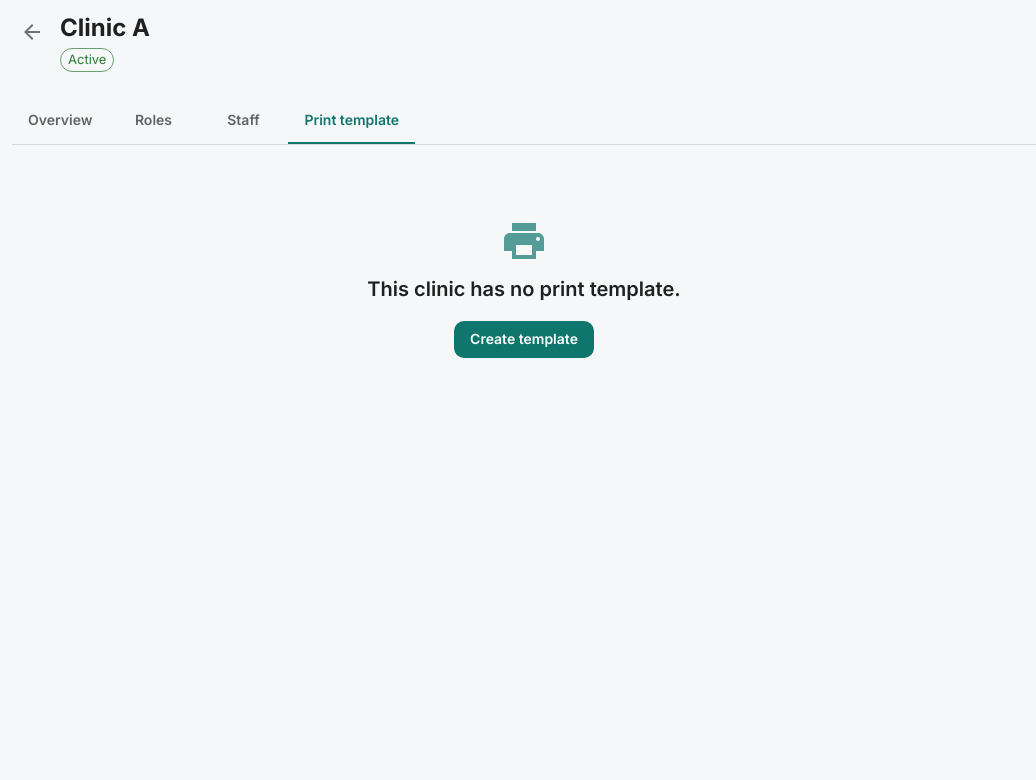
print template: the paper size @area:admin › the choices, in order: A5, A4, Custom @TPL-047
Step 1. Click the button "Create template" → (524, 339), box [454,321,594,358]
(page scrolled)
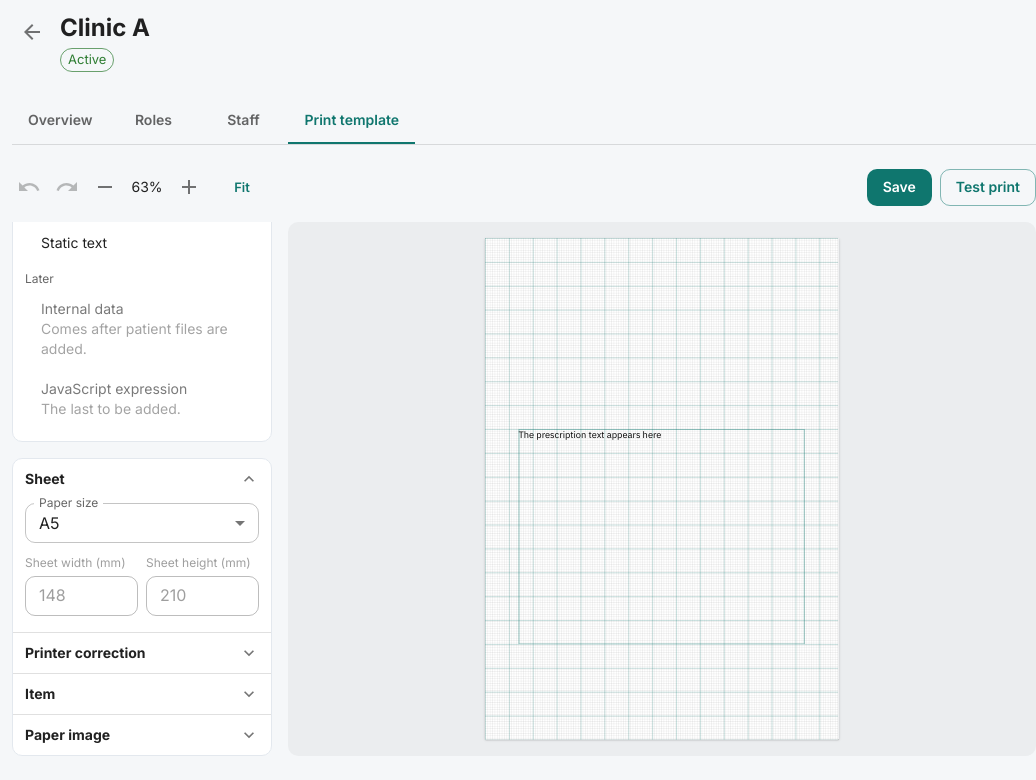
Step 2. Click the dropdown labelled "A5" → (49, 523), box [39,513,60,533]
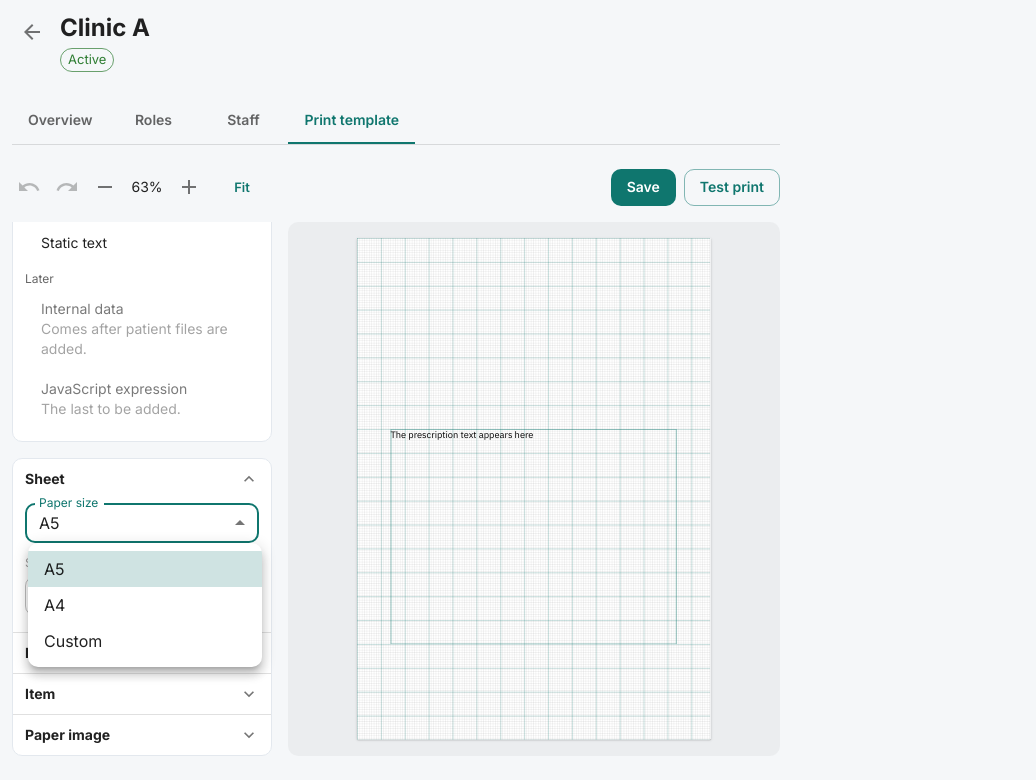
Step 3. Press Escape
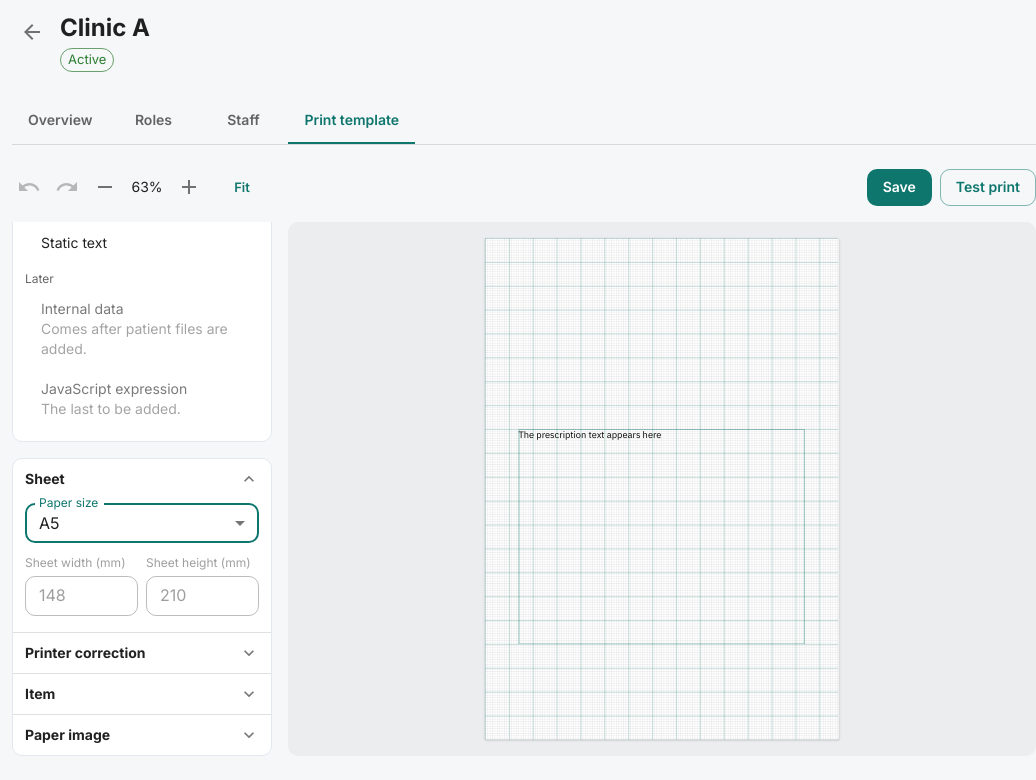
Now the list "A5 A4 Custom" is gone
